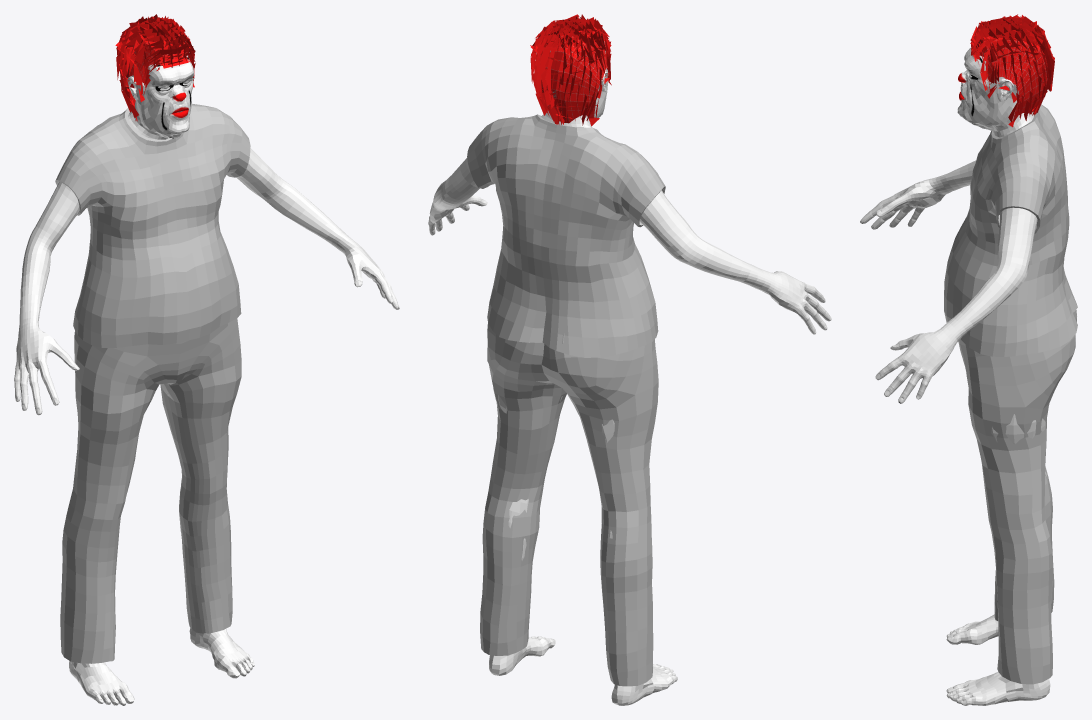
The model's file is klaun.fbx.
3 views of the same model, side by side, from view 1: azimuth 30°, elevation 25°; view 2: azimuth 150°, elevation 25°; view 3: azimuth 270°, elevation 25° (orthographic).
Visible parts, largest first — view 1: test:male_casualsuit04_obj, test:base_obj, test:afro01_obj; view 2: test:male_casualsuit04_obj, test:base_obj, test:afro01_obj; view 3: test:male_casualsuit04_obj, test:base_obj, test:afro01_obj.
Boxes of the visible parts, bbox=[...] form: test:male_casualsuit04_obj: bbox=[55, 104, 250, 663]; test:base_obj: bbox=[14, 55, 399, 705]; test:afro01_obj: bbox=[115, 14, 195, 121]; test:male_casualsuit04_obj: bbox=[467, 114, 665, 686]; test:base_obj: bbox=[428, 51, 831, 705]; test:afro01_obj: bbox=[530, 14, 611, 126]; test:male_casualsuit04_obj: bbox=[944, 104, 1077, 684]; test:base_obj: bbox=[860, 47, 1050, 705]; test:afro01_obj: bbox=[970, 14, 1054, 127].
Bounding box in the file's own units: 12.12 × 19.79 × 6.
